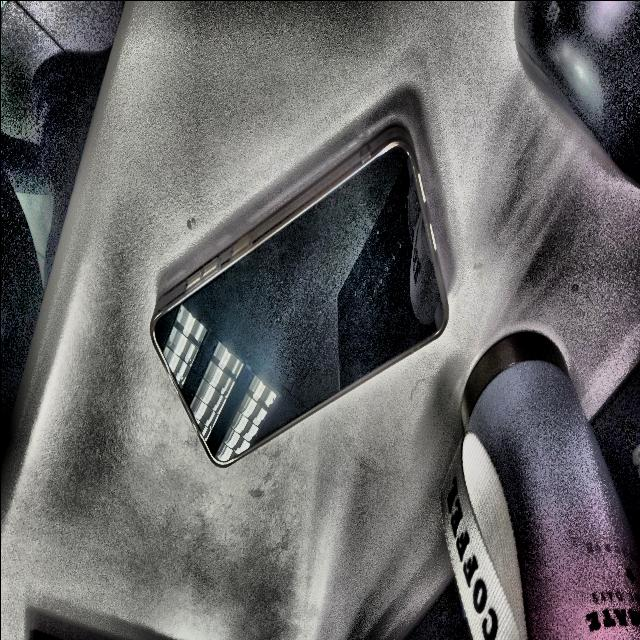MOUSE: (516, 0, 640, 187)
PHONE: (150, 127, 447, 466)
